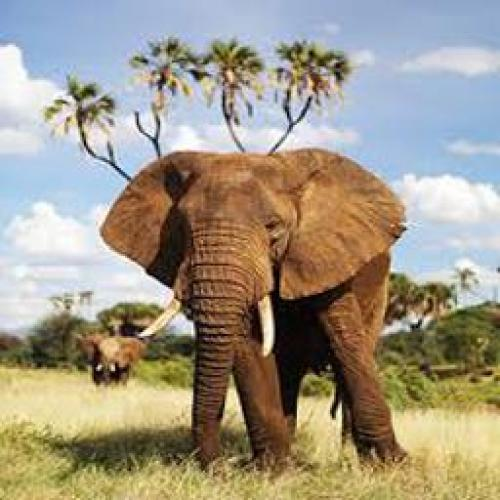african_elephant-endangered: (96, 151, 412, 468), (72, 331, 141, 388)
